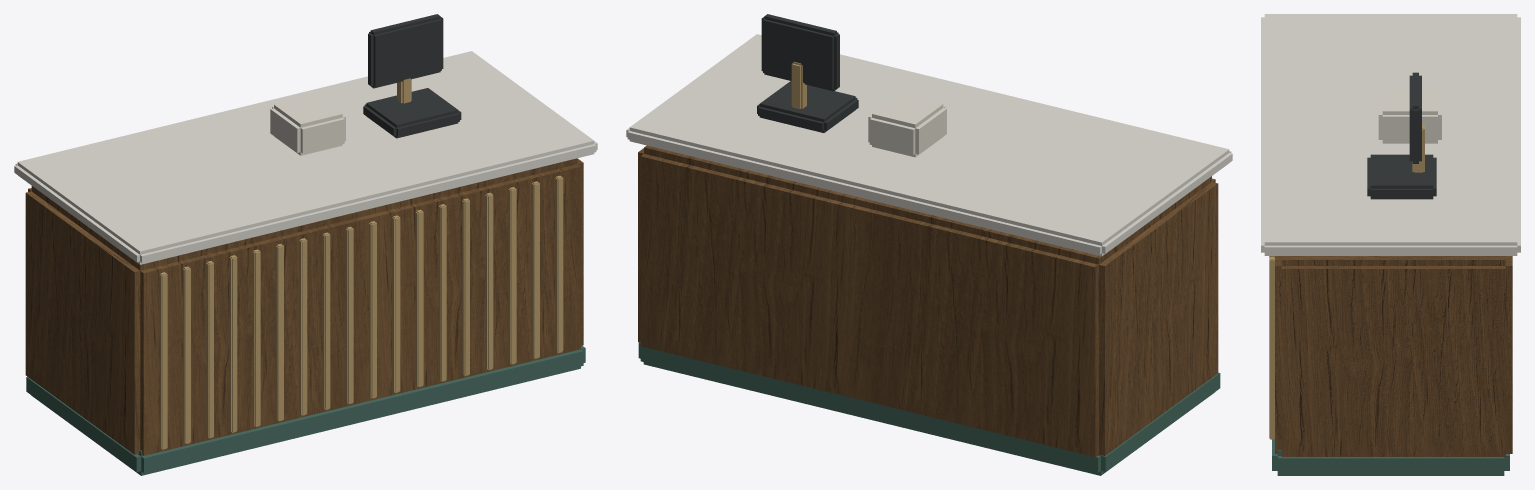
The model's file is fixture_v25_atelier_checkout.glb.
3 views of the same model, side by side, from view 1: azimuth 30°, elevation 25°; view 2: azimuth 150°, elevation 25°; view 3: azimuth 270°, elevation 25° (orthographic). The views are drawn at different scales.
Visible parts, largest first — view 1: fixture_v25_atelier_checkout_CC0_Oak_veneer, fixture_v25_atelier_checkout_Honed_solid_surface, fixture_v25_atelier_checkout_Satin_champagne, fixture_v25_atelier_checkout_V25_spruce, fixture_v25_atelier_checkout_Anodised_graphite, fixture_v25_atelier_checkout_V25_limewash; view 2: fixture_v25_atelier_checkout_CC0_Oak_veneer, fixture_v25_atelier_checkout_Honed_solid_surface, fixture_v25_atelier_checkout_V25_spruce, fixture_v25_atelier_checkout_Anodised_graphite, fixture_v25_atelier_checkout_V25_limewash, fixture_v25_atelier_checkout_Satin_champagne; view 3: fixture_v25_atelier_checkout_Honed_solid_surface, fixture_v25_atelier_checkout_CC0_Oak_veneer, fixture_v25_atelier_checkout_V25_spruce, fixture_v25_atelier_checkout_Anodised_graphite, fixture_v25_atelier_checkout_V25_limewash, fixture_v25_atelier_checkout_Satin_champagne.
Boxes of the visible parts, x1=… form: fixture_v25_atelier_checkout_CC0_Oak_veneer: x1=25, y1=158, x2=583, y2=455; fixture_v25_atelier_checkout_Honed_solid_surface: x1=14, y1=51, x2=597, y2=264; fixture_v25_atelier_checkout_Satin_champagne: x1=159, y1=78, x2=563, y2=449; fixture_v25_atelier_checkout_V25_spruce: x1=26, y1=345, x2=585, y2=475; fixture_v25_atelier_checkout_Anodised_graphite: x1=363, y1=14, x2=461, y2=138; fixture_v25_atelier_checkout_V25_limewash: x1=270, y1=94, x2=345, y2=155; fixture_v25_atelier_checkout_CC0_Oak_veneer: x1=638, y1=145, x2=1218, y2=457; fixture_v25_atelier_checkout_Honed_solid_surface: x1=626, y1=34, x2=1232, y2=256; fixture_v25_atelier_checkout_V25_spruce: x1=638, y1=342, x2=1220, y2=475; fixture_v25_atelier_checkout_Anodised_graphite: x1=757, y1=14, x2=858, y2=132; fixture_v25_atelier_checkout_V25_limewash: x1=868, y1=93, x2=946, y2=157; fixture_v25_atelier_checkout_Satin_champagne: x1=791, y1=62, x2=806, y2=108; fixture_v25_atelier_checkout_Honed_solid_surface: x1=1261, y1=14, x2=1520, y2=255; fixture_v25_atelier_checkout_CC0_Oak_veneer: x1=1275, y1=256, x2=1512, y2=456; fixture_v25_atelier_checkout_V25_spruce: x1=1272, y1=438, x2=1509, y2=475; fixture_v25_atelier_checkout_Anodised_graphite: x1=1367, y1=72, x2=1436, y2=199; fixture_v25_atelier_checkout_V25_limewash: x1=1378, y1=90, x2=1441, y2=143; fixture_v25_atelier_checkout_Satin_champagne: x1=1269, y1=124, x2=1424, y2=439.
Bounding box in the file's own units: 1.98 × 1.33 × 0.94.
6 materials, 1 textured.
